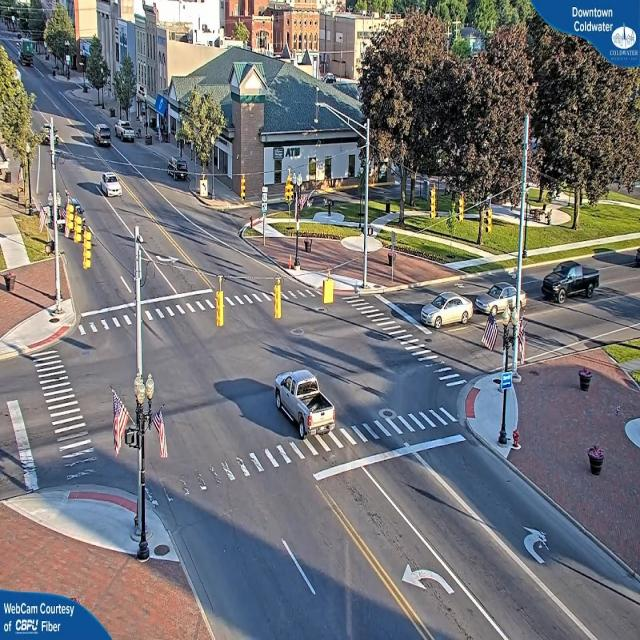car: (274, 366, 331, 438), (541, 262, 602, 302), (420, 294, 472, 332), (476, 286, 526, 318), (586, 444, 606, 474), (100, 174, 123, 198), (165, 158, 189, 180)
